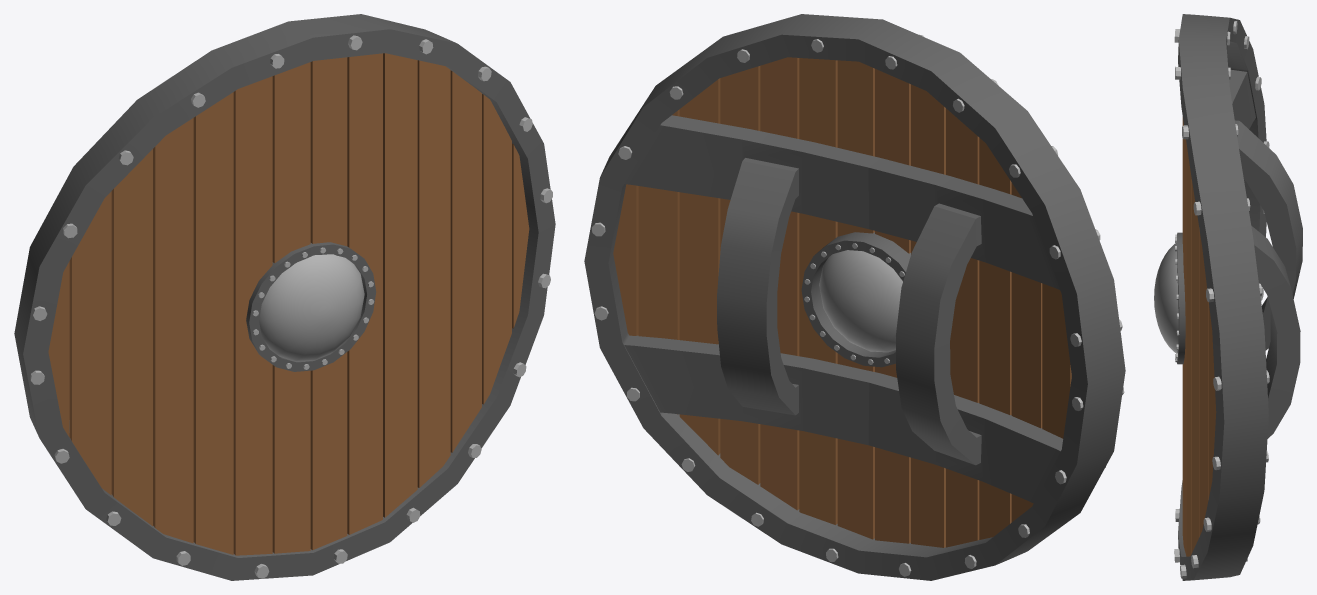
Rendered from Shield.FBX.
3 renders of one model, left to right at view 1: azimuth 30°, elevation 25°; view 2: azimuth 150°, elevation 25°; view 3: azimuth 270°, elevation 25°, orthographic. The views are drawn at different scales.
Visible parts, largest first — view 1: outer_covering, wood4, wood5, wood2, wood10, wood9, wood1, wood11, wood12, wood3, navel, wood13 (+7 smaller); view 2: outer_covering, wood9, wood10, wood12, wood4, wood2, navel, wood13, wood5, wood1, wood11, inner_covering (+6 smaller); view 3: outer_covering, wood11, wood12, wood10, navel, wood9, wood13, inner_covering, wood8, wood14.
Boxes of the visible parts, x1,y1,x2,y2 form: outer_covering: (14,14,555,580); wood4: (193,92,233,554); wood5: (233,76,272,555); wood2: (153,118,193,543); wood10: (383,53,417,517); wood9: (347,53,382,534); wood1: (111,149,152,526); wood11: (417,60,450,487); wood12: (450,70,481,452); wood3: (69,191,111,495); navel: (259,254,364,361); wood13: (482,94,511,404); outer_covering: (584,14,1125,580); wood9: (799,58,837,524); wood10: (760,57,799,510); wood12: (679,78,720,455); wood4: (946,108,979,547); wood2: (979,138,1011,539); navel: (819,250,902,352); wood13: (638,109,679,414); wood5: (911,84,945,547); wood1: (1011,183,1042,522); wood11: (720,66,760,484); inner_covering: (801,232,910,367); outer_covering: (1178,14,1302,580); wood11: (1192,181,1199,552); wood12: (1199,229,1208,536); wood10: (1186,145,1191,556); navel: (1154,243,1178,353); wood9: (1183,124,1186,556); wood13: (1208,302,1216,498); inner_covering: (1177,232,1185,364); wood8: (1182,364,1183,544); wood14: (1182,117,1183,264).
Bounding box in the file's own units: 171 × 165 × 43.23.
